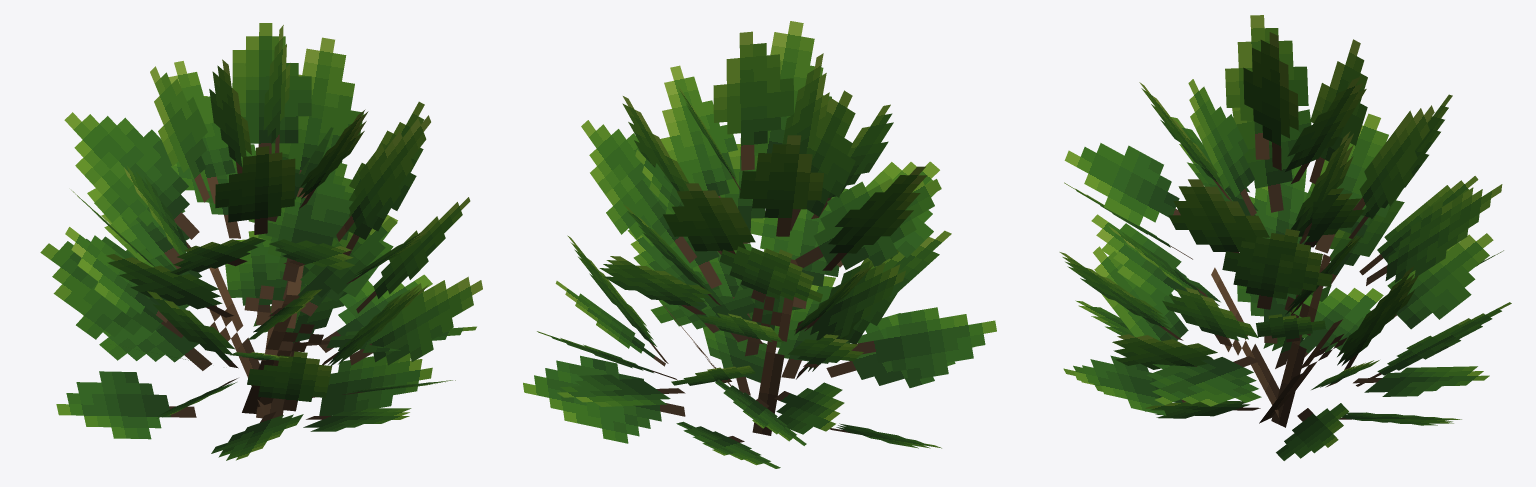
Rendered from green_leafy_bush_small.glb.
3 views of the same model, side by side, from view 1: azimuth 30°, elevation 25°; view 2: azimuth 150°, elevation 25°; view 3: azimuth 270°, elevation 25° (orthographic).
Parts seen in each view (by area): view 1: green_leafy_bush_small; view 2: green_leafy_bush_small; view 3: green_leafy_bush_small.
Boxes of the visible parts, x1,y1,x2,y2 form: green_leafy_bush_small: [40, 23, 482, 460]; green_leafy_bush_small: [523, 21, 996, 468]; green_leafy_bush_small: [1059, 15, 1511, 460].
Bounding box in the file's own units: 1.08 × 1.01 × 1.12.
Materials: 1 (1 with a texture image).
